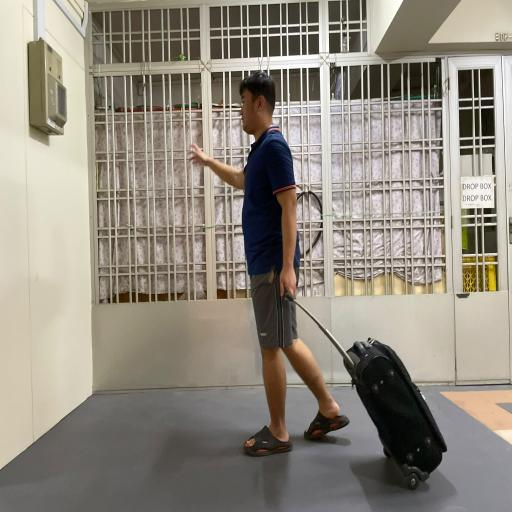person_left: (188, 70, 452, 496)
